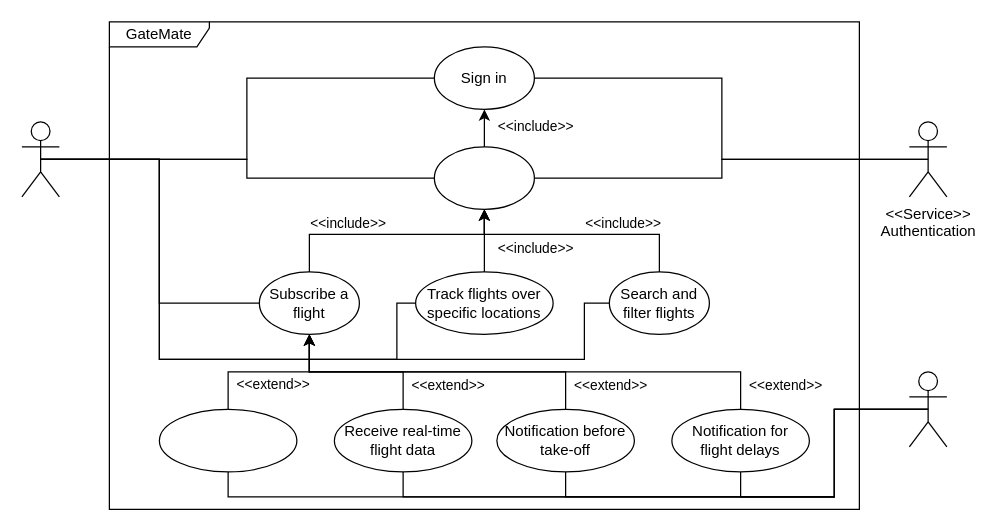
The diagram is 998 pixels wide and 531 high, and some of its shapes have lost their labels. The box of each missing label's shape, as (x1, y1, x2, y2) in pixels:
GateMate API: (908, 371, 947, 447)
Log in: (433, 146, 534, 209)
Receive gate opening notifications: (158, 408, 297, 472)
User: (21, 121, 59, 197)
